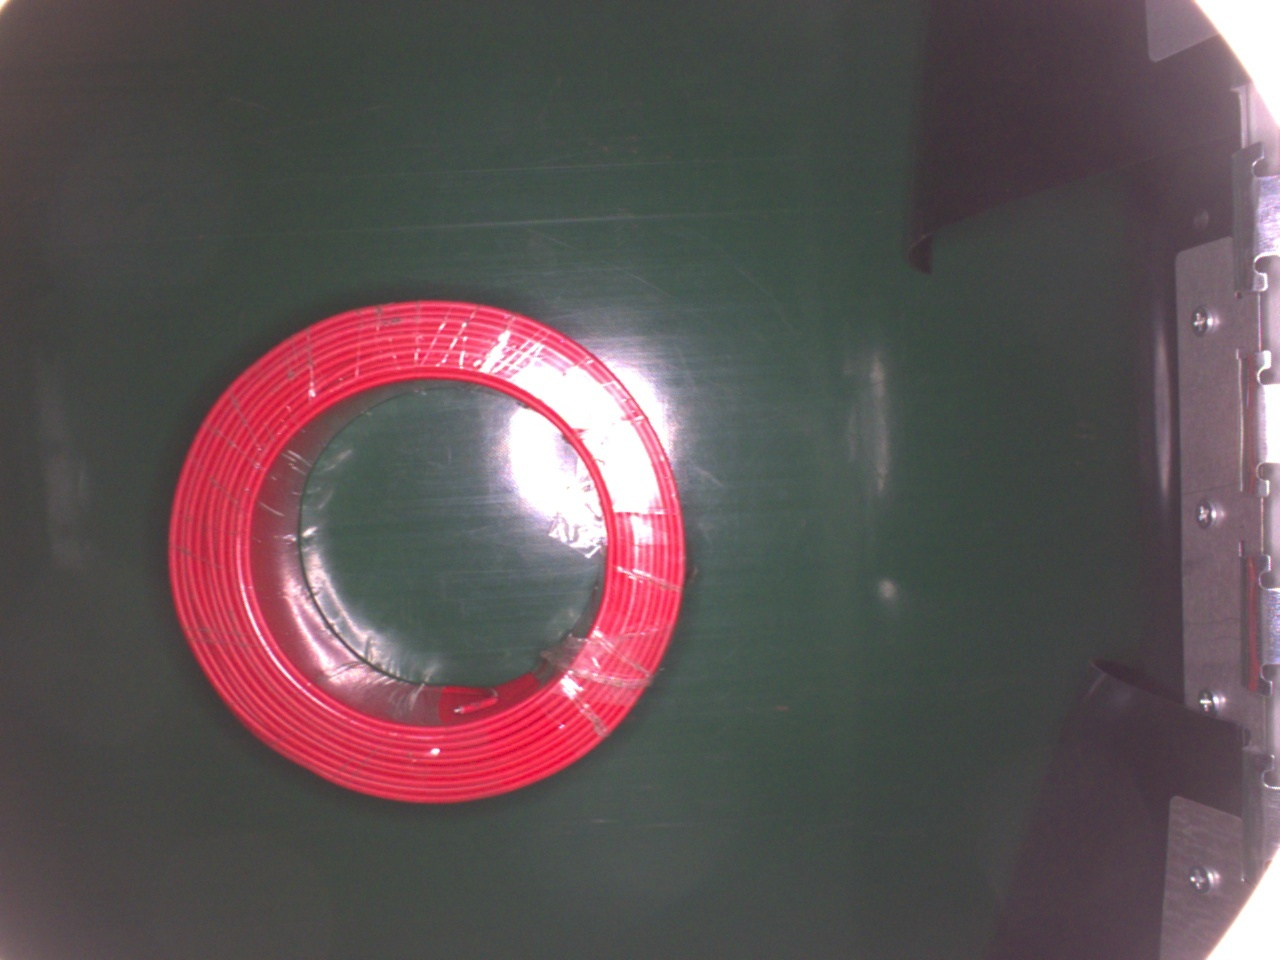red: (171, 296, 683, 796)
